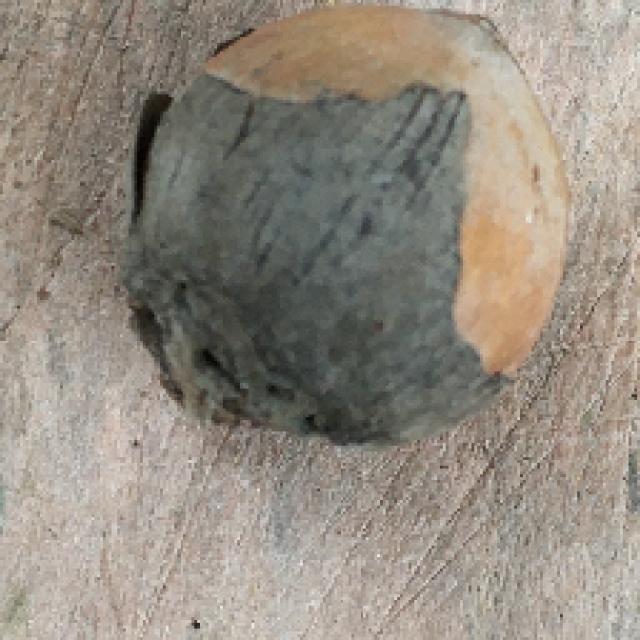damagedHazelnut: (128, 0, 568, 446)
